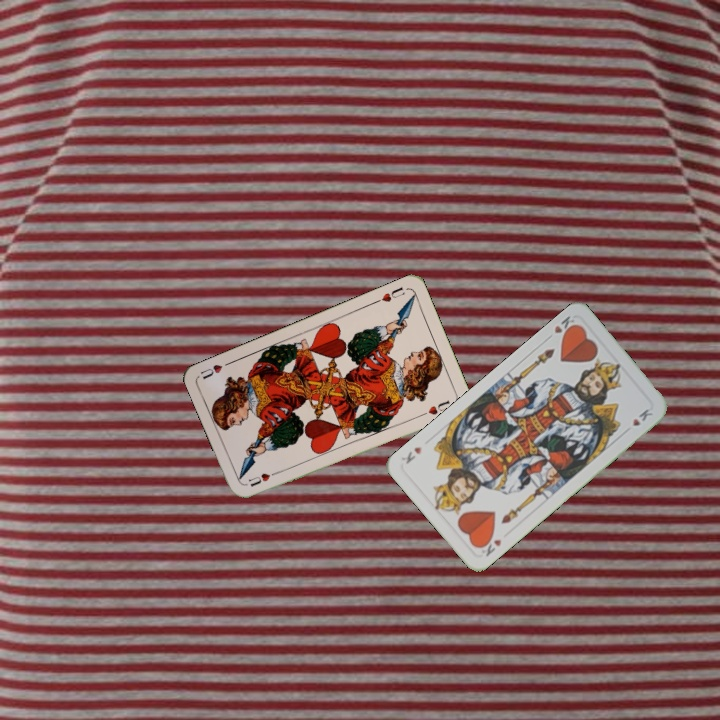HK: (542, 312, 580, 343), (475, 532, 504, 559)
HU: (244, 467, 282, 489), (371, 283, 407, 306)
